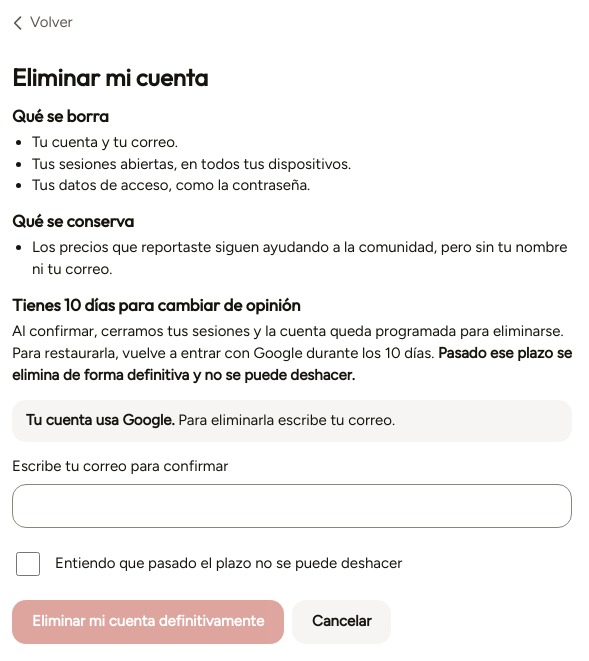
Test case: eliminar la cuenta creada con Google › no pide contraseña: explica, pide el correo y exige la casilla
Expected: the text "Tu cuenta usa Google." is shown, [26,411,175,429]
Expected: the text "Tu cuenta usa Google. Para eliminarla escribe tu correo." is shown, [12,400,572,442]
Click the checkbox at (28, 564), box [16,552,40,576]
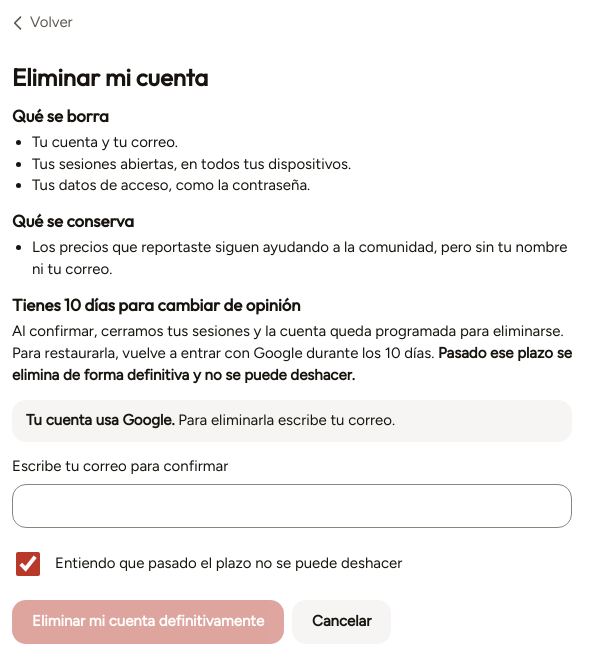
Expected: the button "Eliminar mi cuenta definitivamente" is disabled, [12,600,284,644]
Type "ana@correo.co" into the field labelled "Escribe tu correo para confirmar" at (292, 506), box [12,484,572,528]
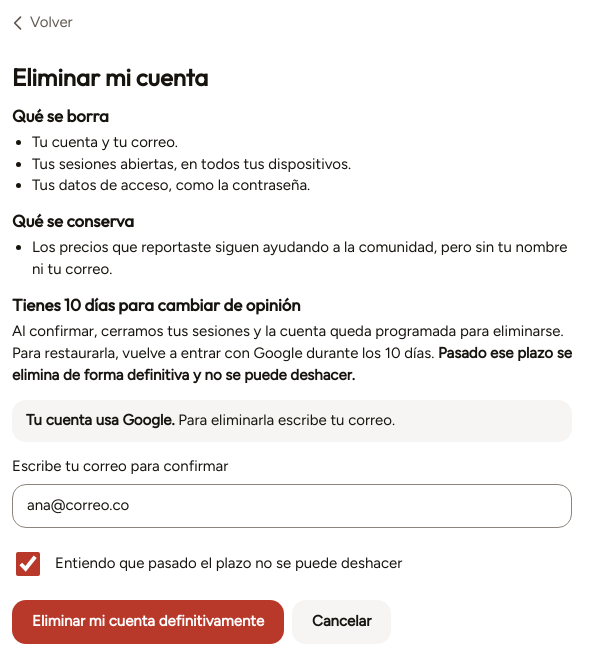
Expected: the button "Eliminar mi cuenta definitivamente" is enabled, [12,600,284,644]
